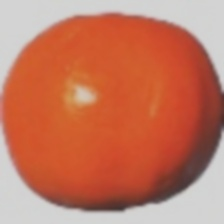tangerine: (46, 50, 193, 218)
